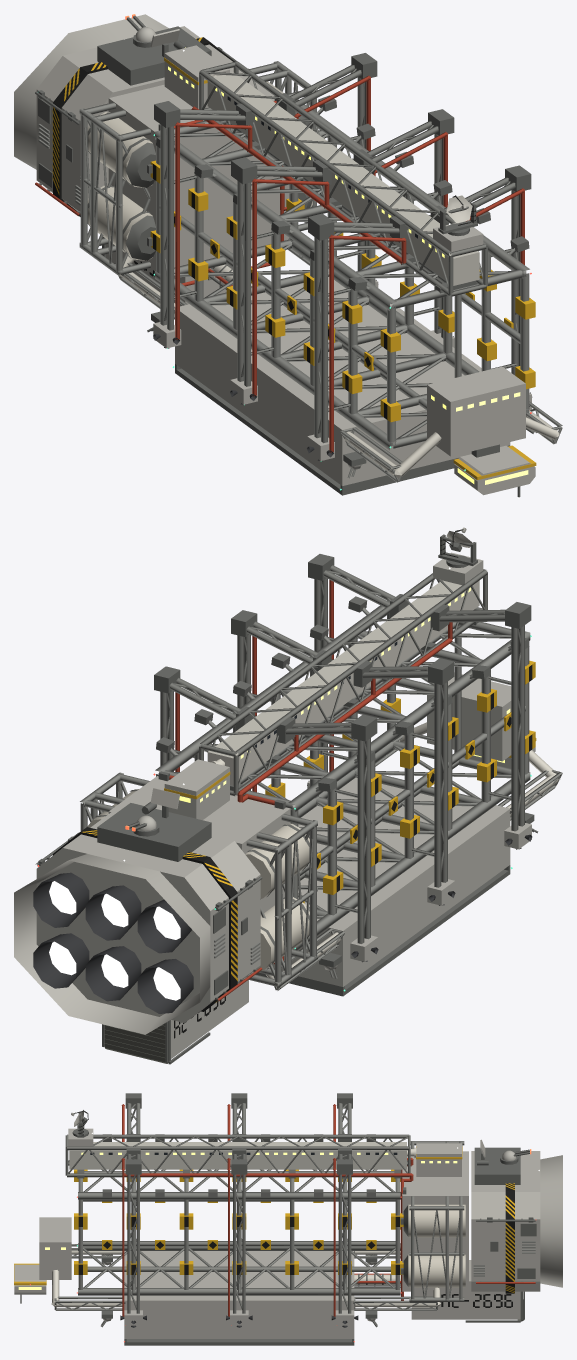
File: crawler_civilian.glb
The picture shows the model from 3 angles, top to bottom: view 1: azimuth 30°, elevation 25°; view 2: azimuth 150°, elevation 25°; view 3: azimuth 270°, elevation 25°; orthographic projection. The views are drawn at different scales.
Visible parts, largest first — view 1: trussFrame, berthHangar, spineDeck, serviceCore, spineFrame, fuelRack, crewCompartment, engineBlock, trussClamp, engineSkirt, leg3_frame, leg5_frame (+31 smaller); view 2: trussFrame, engineBlock, berthHangar, spineDeck, spineFrame, engineSkirt, fuelRack, engineHousing, leg1_frame, leg5_frame, leg3_frame, serviceCore (+28 smaller); view 3: trussFrame, berthHangar, spineDeck, engineBlock, spineFrame, serviceCore, engineSkirt, fuelRack, bayHull, trussClamp, crewCompartment, linkCarrierPort (+27 smaller).
Part boxes in pixels (box(x1,y1,x2,y2)): trussFrame: box(155, 99, 529, 450); berthHangar: box(175, 277, 510, 485); spineDeck: box(207, 72, 479, 285); serviceCore: box(108, 68, 289, 270); spineFrame: box(199, 61, 487, 296); fuelRack: box(79, 61, 317, 276); crewCompartment: box(427, 366, 525, 456); engineBlock: box(36, 26, 233, 211); trussClamp: box(150, 160, 535, 422); engineSkirt: box(14, 14, 168, 169); leg3_frame: box(237, 166, 322, 386); leg5_frame: box(314, 222, 399, 443); trussFrame: box(155, 600, 530, 950); engineBlock: box(36, 811, 260, 1022); berthHangar: box(272, 777, 510, 986); spineDeck: box(207, 580, 479, 785); spineFrame: box(199, 569, 487, 796); engineSkirt: box(14, 854, 210, 1034); fuelRack: box(80, 772, 317, 987); engineHousing: box(97, 803, 211, 861); leg1_frame: box(285, 722, 370, 943); leg5_frame: box(439, 609, 524, 831); leg3_frame: box(362, 666, 447, 887); serviceCore: box(108, 776, 290, 982); trussFrame: box(78, 1169, 400, 1295); berthHangar: box(124, 1251, 354, 1338); spineDeck: box(69, 1142, 406, 1169); engineBlock: box(471, 1151, 540, 1291); spineFrame: box(65, 1134, 410, 1177); serviceCore: box(402, 1151, 468, 1291); engineSkirt: box(540, 1155, 562, 1287); fuelRack: box(409, 1141, 464, 1301); bayHull: box(411, 1260, 520, 1319); trussClamp: box(74, 1169, 403, 1274); crewCompartment: box(39, 1217, 71, 1279); linkCarrierPort: box(54, 1296, 437, 1310).
Bounding box in the file's own units: 153 × 200 × 478.
